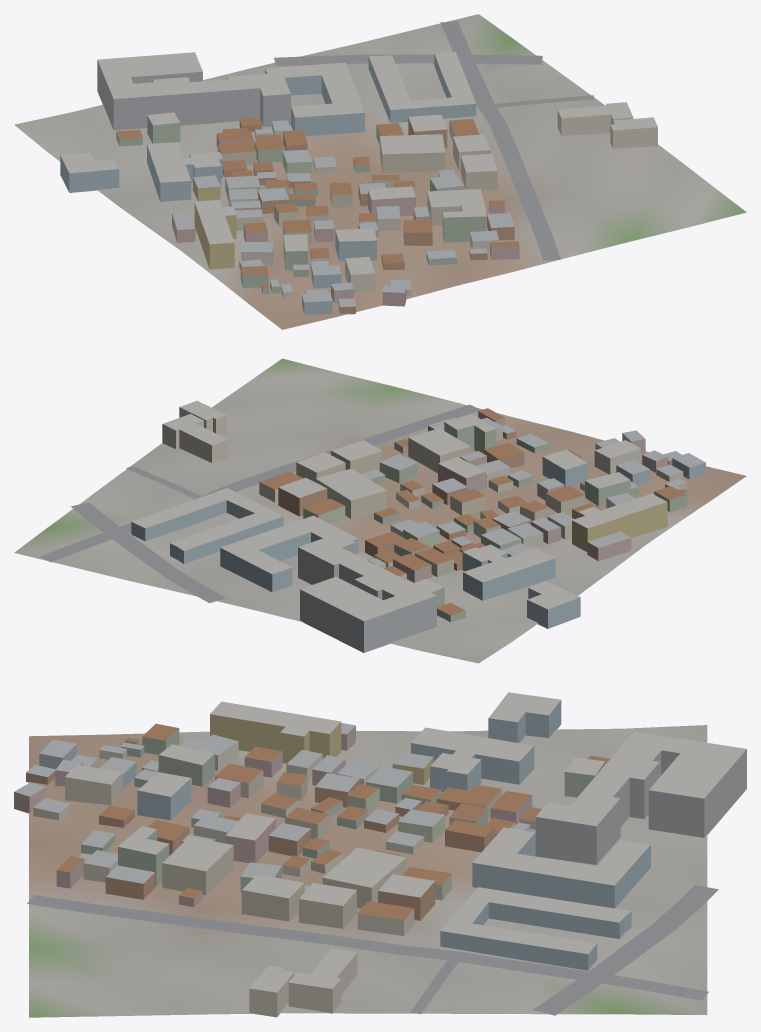
The picture shows the model from 3 angles, top to bottom: view 1: azimuth 30°, elevation 25°; view 2: azimuth 150°, elevation 25°; view 3: azimuth 270°, elevation 25°; orthographic projection. The views are drawn at different scales.
Visible parts, largest first — view 1: Lo; view 2: Lo; view 3: Lo.
Part boxes in pixels (x1,y1,x2,y2): Lo: (14,14,746,329); Lo: (14,358,746,663); Lo: (14,692,746,1017).
Bounding box in the file's own units: 272 × 20.63 × 277.
